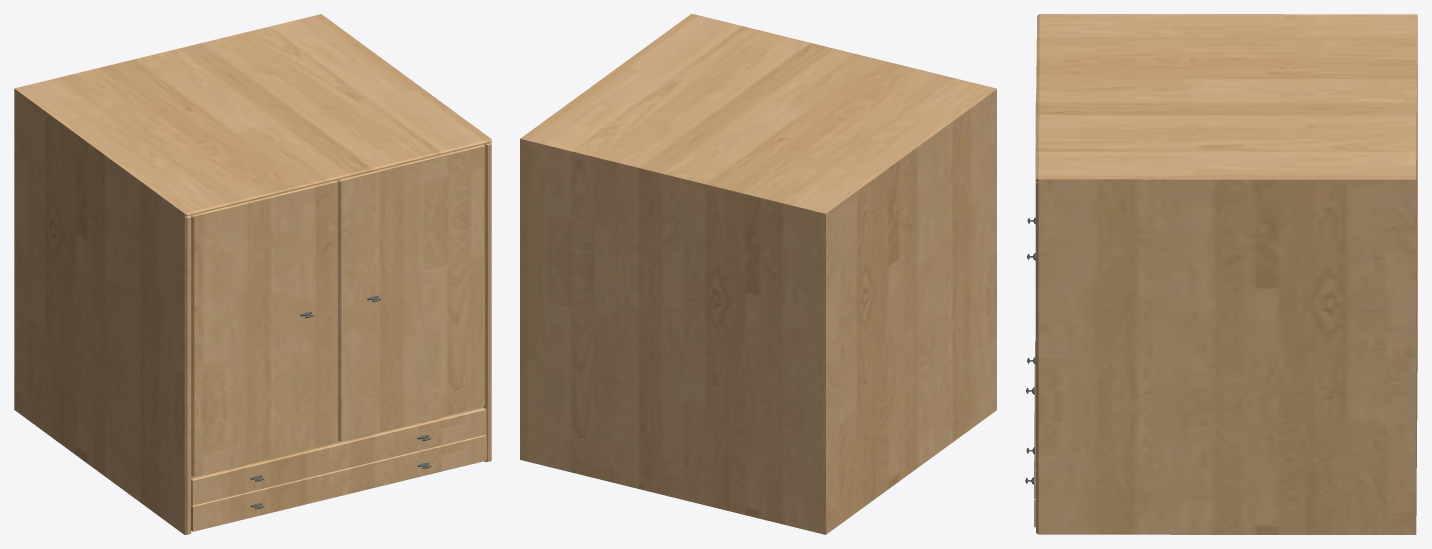
Rendered from sh-bsby-wardrobe.glb.
The picture shows the model from 3 angles, left to right: view 1: azimuth 30°, elevation 25°; view 2: azimuth 150°, elevation 25°; view 3: azimuth 270°, elevation 25°; orthographic projection. The views are drawn at different scales.
Visible parts, largest first — view 1: Wardrobe; view 2: Wardrobe; view 3: Wardrobe.
Part boxes in pixels (x1,y1,x2,y2): Wardrobe: (14, 14, 491, 534); Wardrobe: (520, 14, 996, 534); Wardrobe: (1034, 14, 1417, 534).
Bounding box in the file's own units: 1 × 1 × 1.
2 materials, 1 textured.
